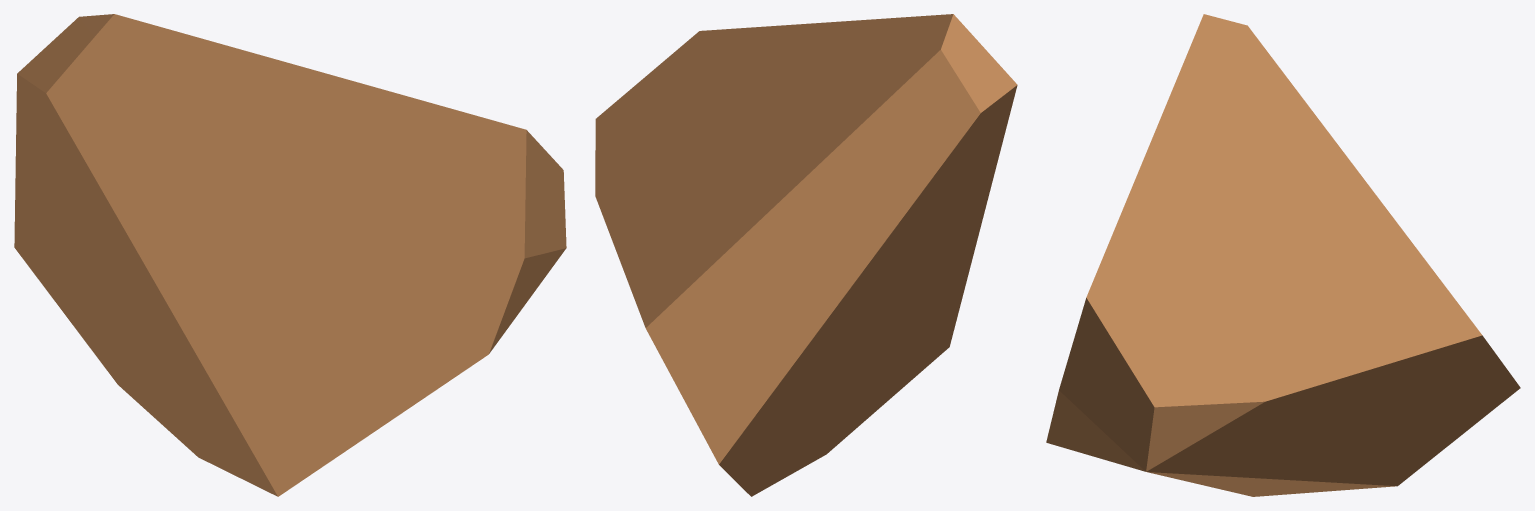
File: asteroid_4_1.glb
3 views of the same model, side by side, from view 1: azimuth 30°, elevation 25°; view 2: azimuth 150°, elevation 25°; view 3: azimuth 270°, elevation 25° (orthographic). The views are drawn at different scales.
Parts seen in each view (by area): view 1: Asteriod_cell_4_1; view 2: Asteriod_cell_4_1; view 3: Asteriod_cell_4_1.
Boxes of the visible parts, x1,y1,x2,y2 form: Asteriod_cell_4_1: [14, 14, 566, 496]; Asteriod_cell_4_1: [595, 14, 1017, 496]; Asteriod_cell_4_1: [1046, 14, 1520, 496].
Bounding box in the file's own units: 1.05 × 1 × 0.9908.
